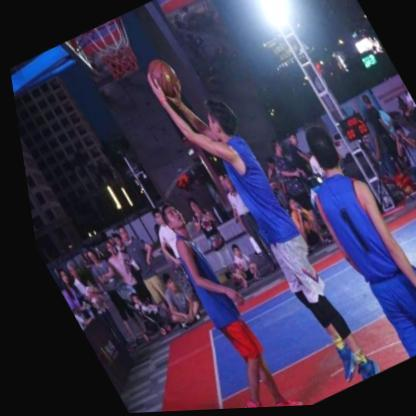basketball: (142, 57, 182, 101)
rim: (75, 16, 147, 86)
